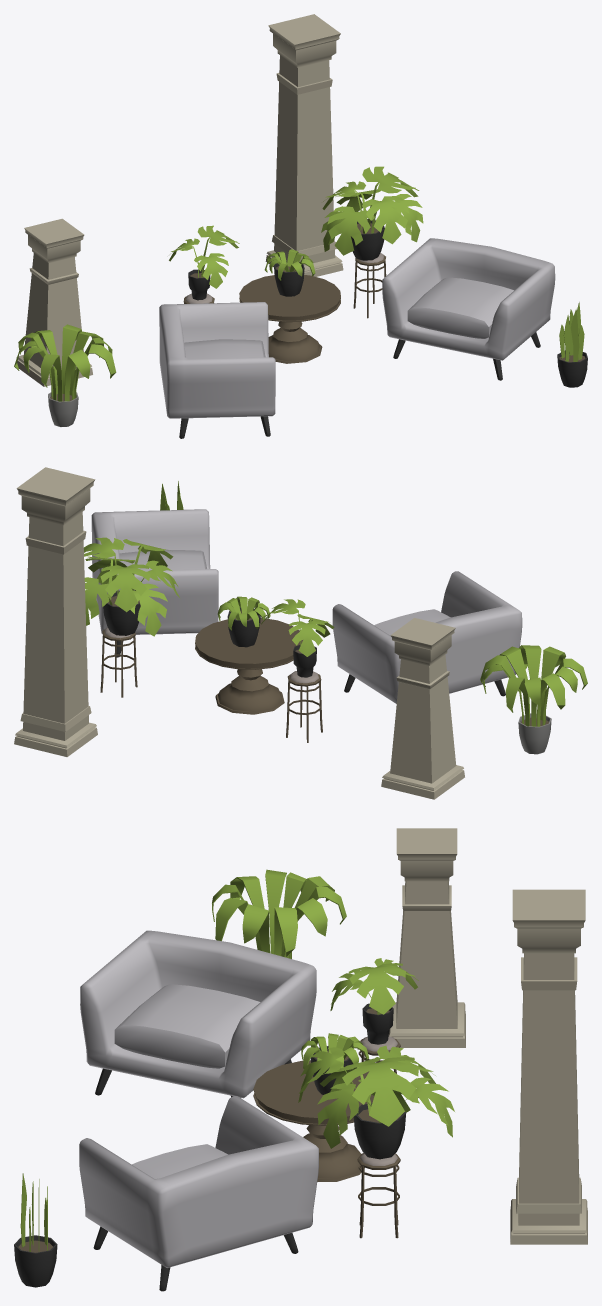
Rendered from gallery_seating.glb.
3 views of the same model, one above another, from view 1: azimuth 30°, elevation 25°; view 2: azimuth 150°, elevation 25°; view 3: azimuth 270°, elevation 25° (orthographic). The views are drawn at different scales.
Visible parts, largest first — view 1: Stool; view 2: Stool; view 3: Stool.
Part boxes in pixels (x1,y1,x2,y2): Stool: (14, 14, 587, 438); Stool: (14, 467, 587, 799); Stool: (14, 828, 587, 1291).
Size of the model in its own units: 24.52 by 11.36 by 18.23.
